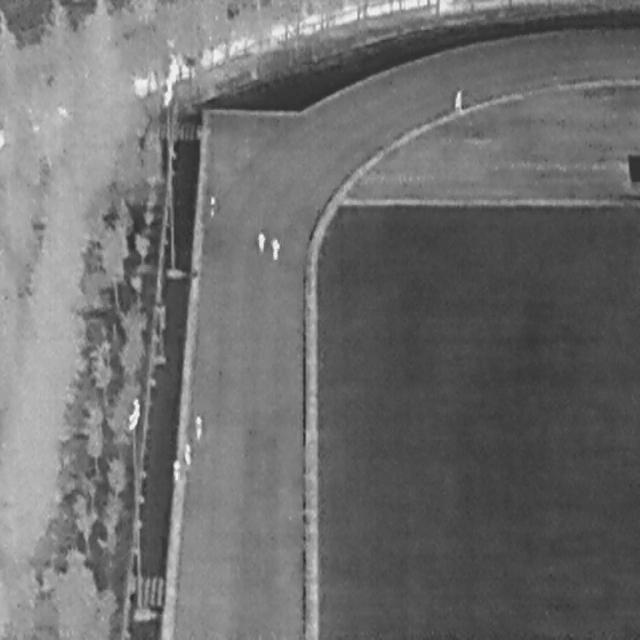Person: (270, 238, 280, 258), (194, 415, 202, 440), (454, 89, 462, 112), (183, 443, 191, 465), (257, 232, 265, 252), (209, 195, 215, 217), (173, 459, 179, 481)
